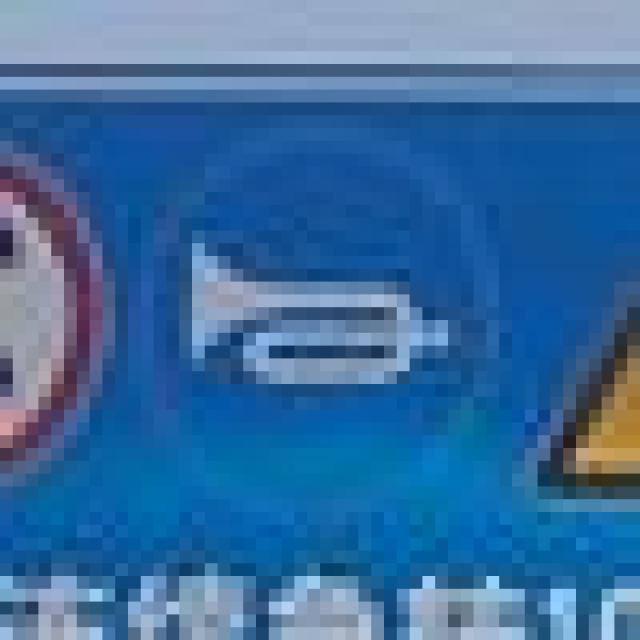compulsory_min_speed: (128, 102, 499, 486)
